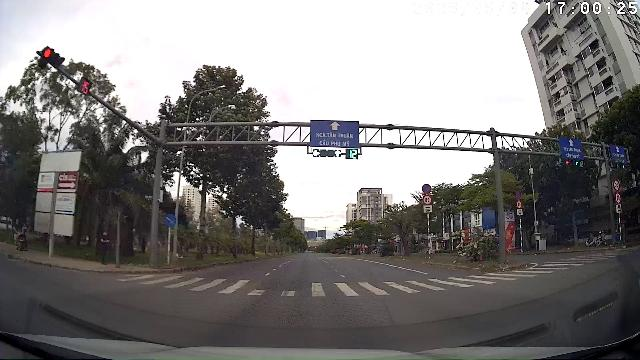127-toc-do-toi-da-80: (422, 195, 432, 205)
130-cam-dung-va-do-xe: (422, 184, 432, 194)
